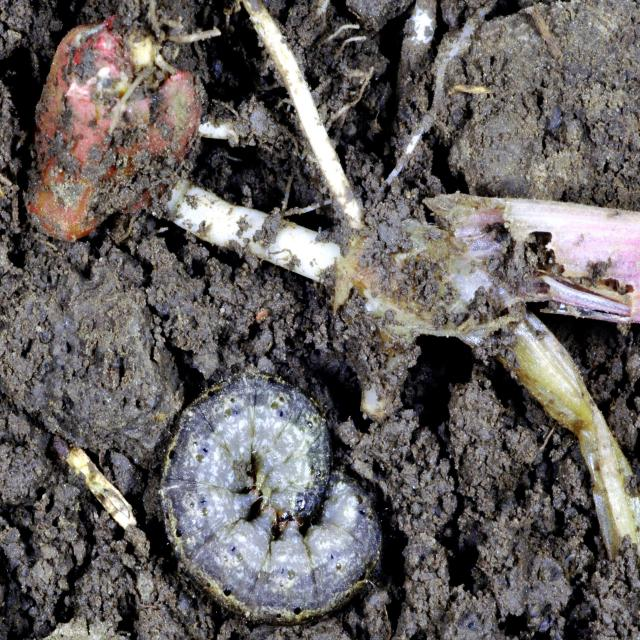black cutworm: (167, 386, 410, 608)
